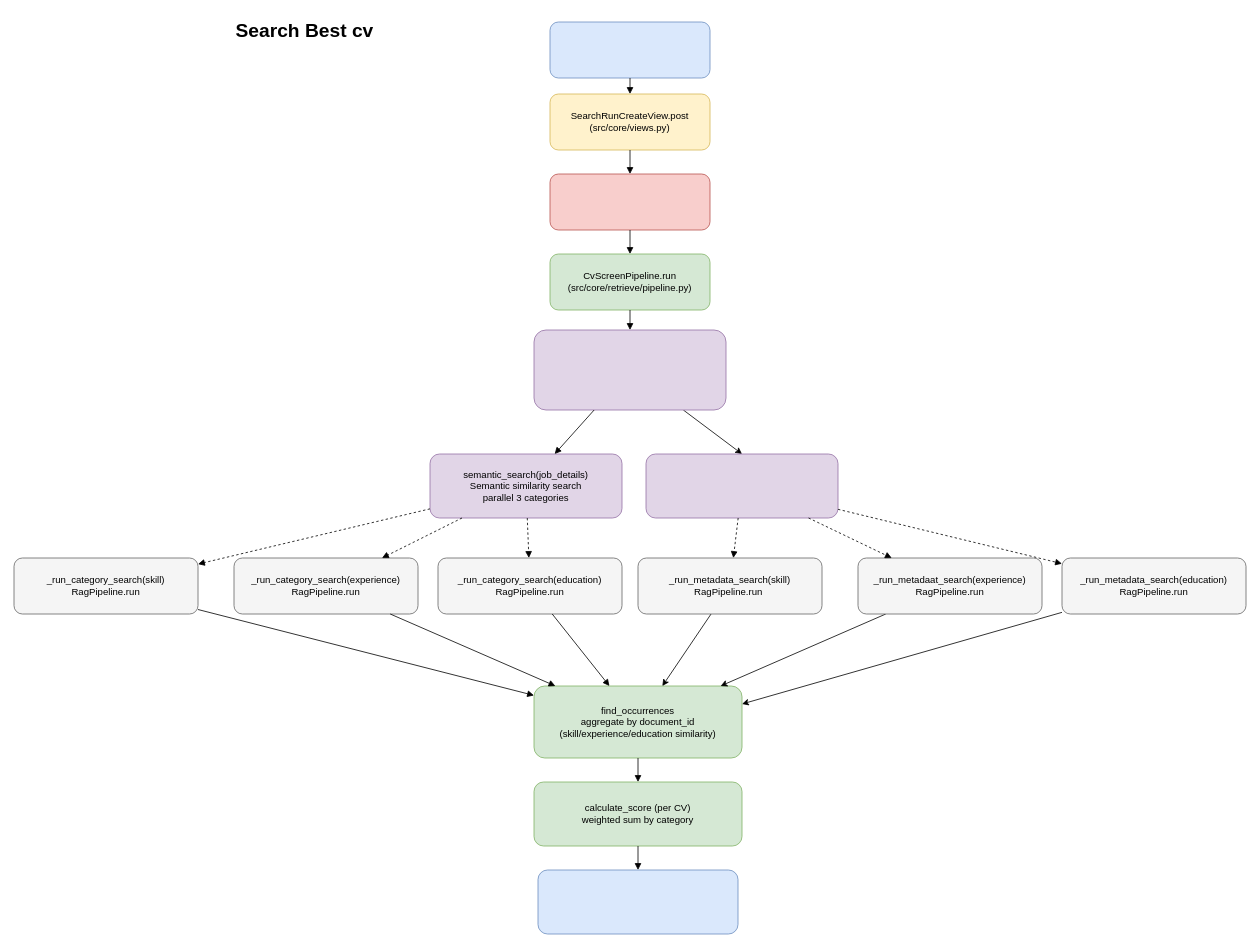
Image size: 1260x948. Some labels were removed from this diagram. Each missing label, with the centre of its shape:
"Client POST /api/search-runs" goes at point 629,49.
"metadata_search(job_details) Full text Search parallel 3 categories" goes at point 741,485.
"Return ranked results HTTP 200 JSON" goes at point 637,901.
"split_job_description in category - skill - experience - education" goes at point 629,369.
"Validate input job_offer_text / top_k / weights" goes at point 629,201.
